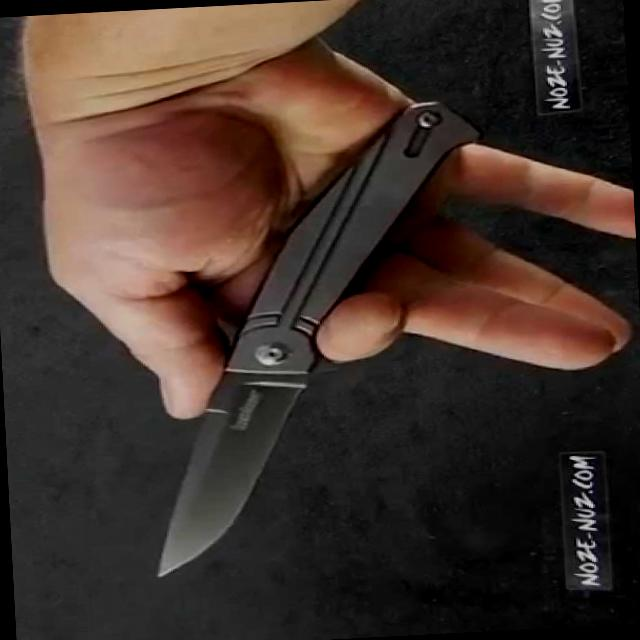knife: (114, 249, 419, 593)
